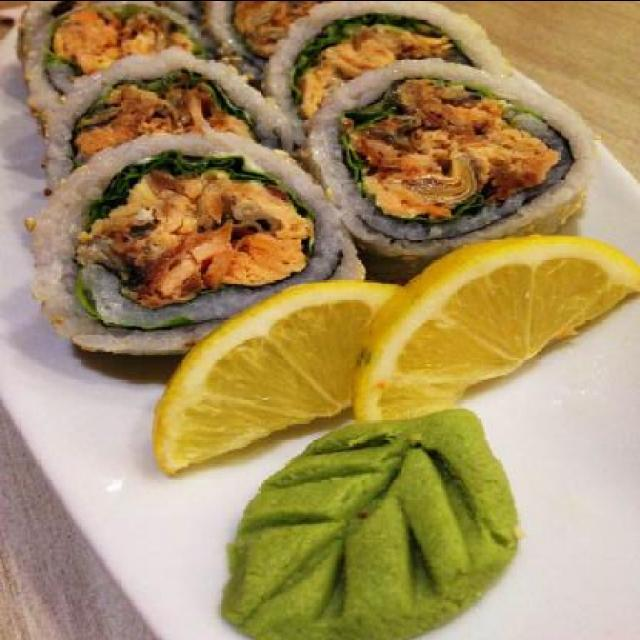Lemon: (348, 232, 640, 422), (152, 282, 400, 480)
